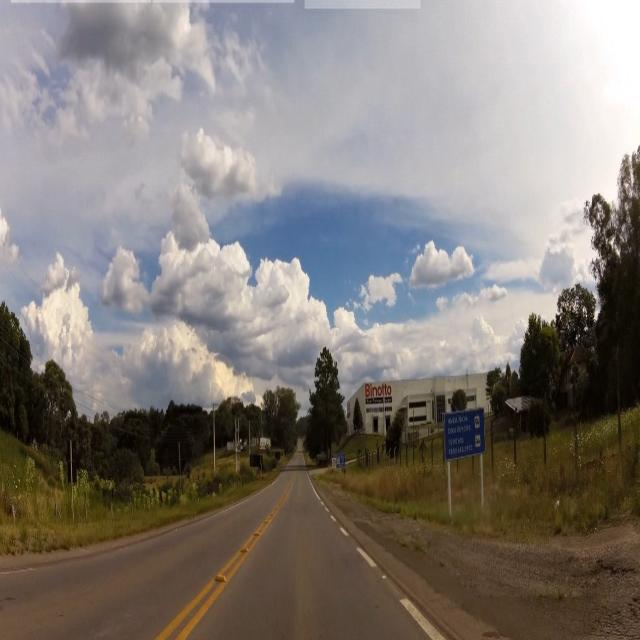LOC-6: (443, 412, 488, 457)
